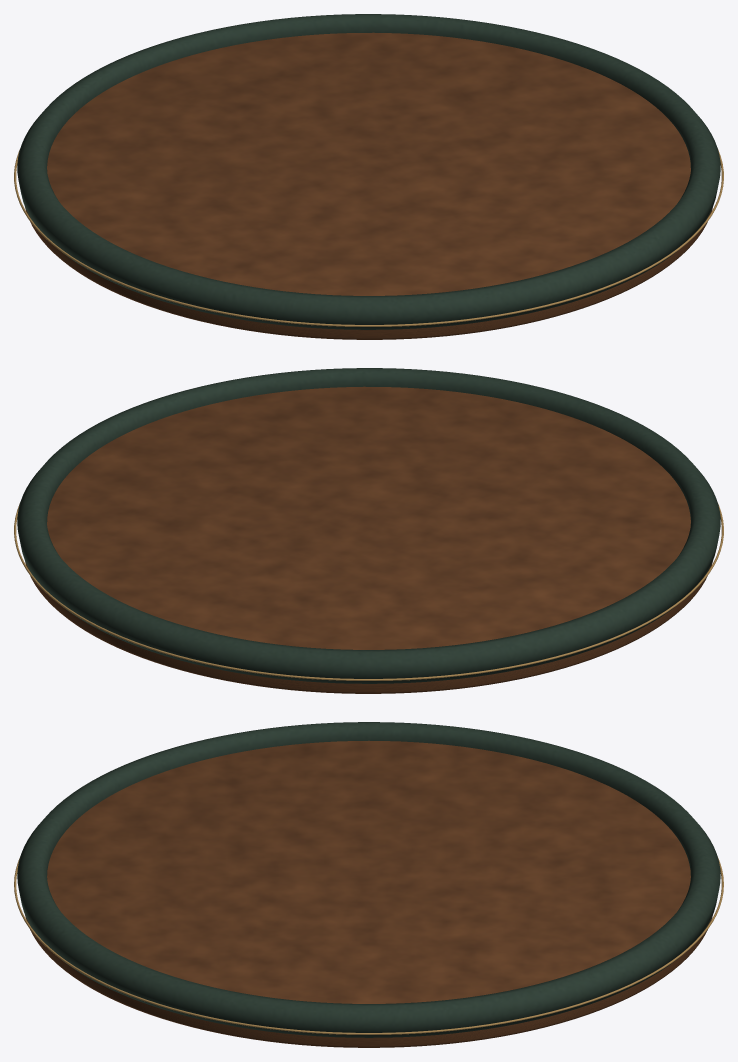
File: table.glb
The picture shows the model from 3 angles, top to bottom: view 1: azimuth 30°, elevation 25°; view 2: azimuth 150°, elevation 25°; view 3: azimuth 270°, elevation 25°; orthographic projection.
Parts seen in each view (by area): view 1: Walnut base, Padded leather rail, Brass piping; view 2: Walnut base, Padded leather rail, Brass piping; view 3: Walnut base, Padded leather rail, Brass piping.
Part boxes in pixels (x1,y1,x2,y2): Walnut base: (25,32,712,339); Padded leather rail: (17,14,720,329); Brass piping: (14,149,723,326); Walnut base: (25,386,712,693); Padded leather rail: (17,368,720,683); Brass piping: (14,503,723,680); Walnut base: (25,740,712,1047); Padded leather rail: (17,722,720,1037); Brass piping: (14,858,723,1034).
Bounding box in the file's own units: 0.969 × 0.0575 × 0.969.
3 materials, 2 textured.
